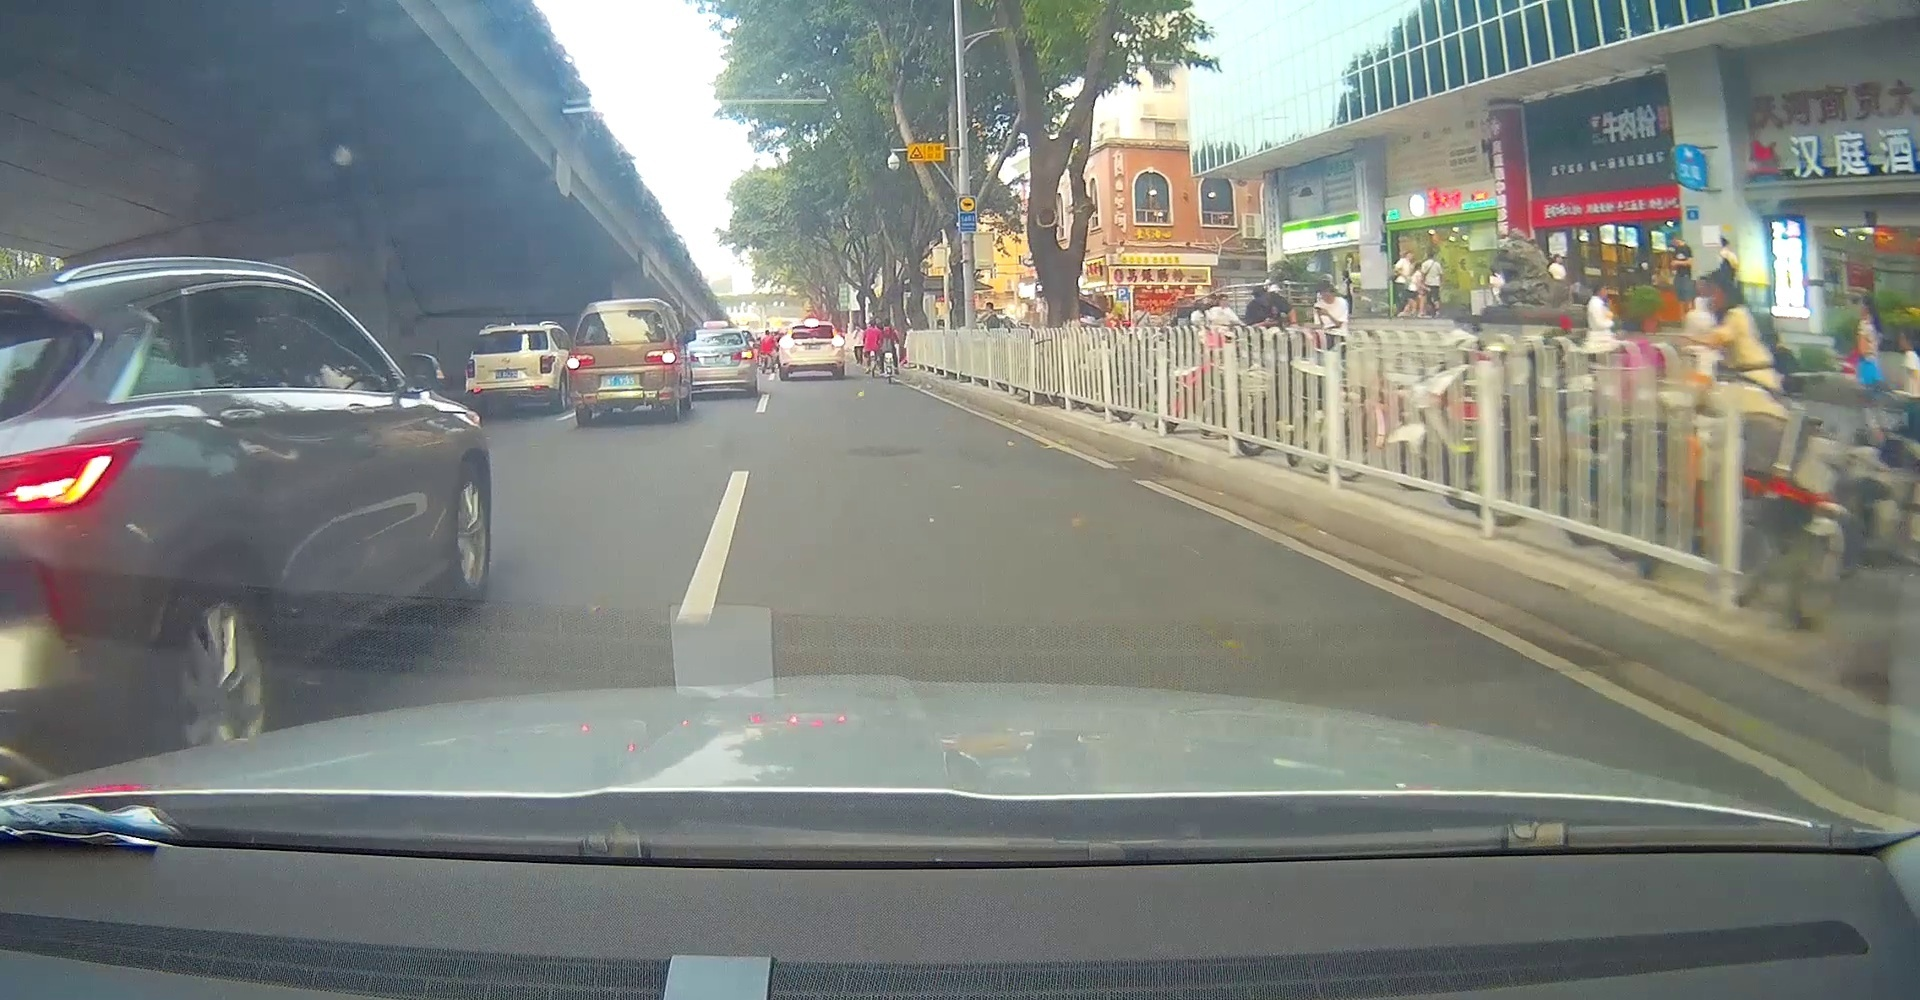L_light: (566, 354, 596, 368), (466, 359, 476, 378), (780, 339, 794, 346), (687, 355, 698, 362)
R_light: (644, 349, 676, 363), (538, 354, 552, 374), (730, 350, 753, 359), (832, 338, 844, 345)
T_light: (489, 329, 518, 335), (604, 308, 631, 313), (803, 324, 820, 327), (707, 332, 723, 335)
day-brake: (778, 319, 844, 379)
day-no: (566, 298, 681, 424), (463, 324, 563, 412)
day-right: (686, 329, 757, 395)
